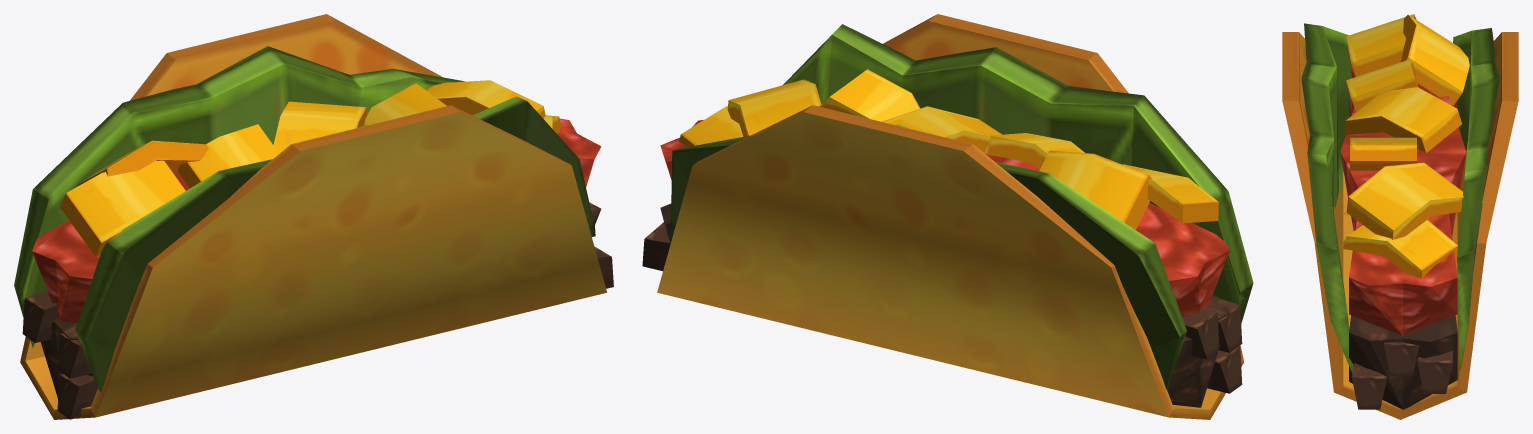
Rendered from taco.FBX.
The picture shows the model from 3 angles, left to right: view 1: azimuth 30°, elevation 25°; view 2: azimuth 150°, elevation 25°; view 3: azimuth 270°, elevation 25°; orthographic projection. The views are drawn at different scales.
Visible parts, largest first — view 1: taco; view 2: taco; view 3: taco.
Part boxes in pixels (x1,y1,x2,y2): taco: (14,14,613,419); taco: (642,14,1253,419); taco: (1282,14,1518,419).
Size of the model in its own units: 11.9 by 5.61 by 4.97.
